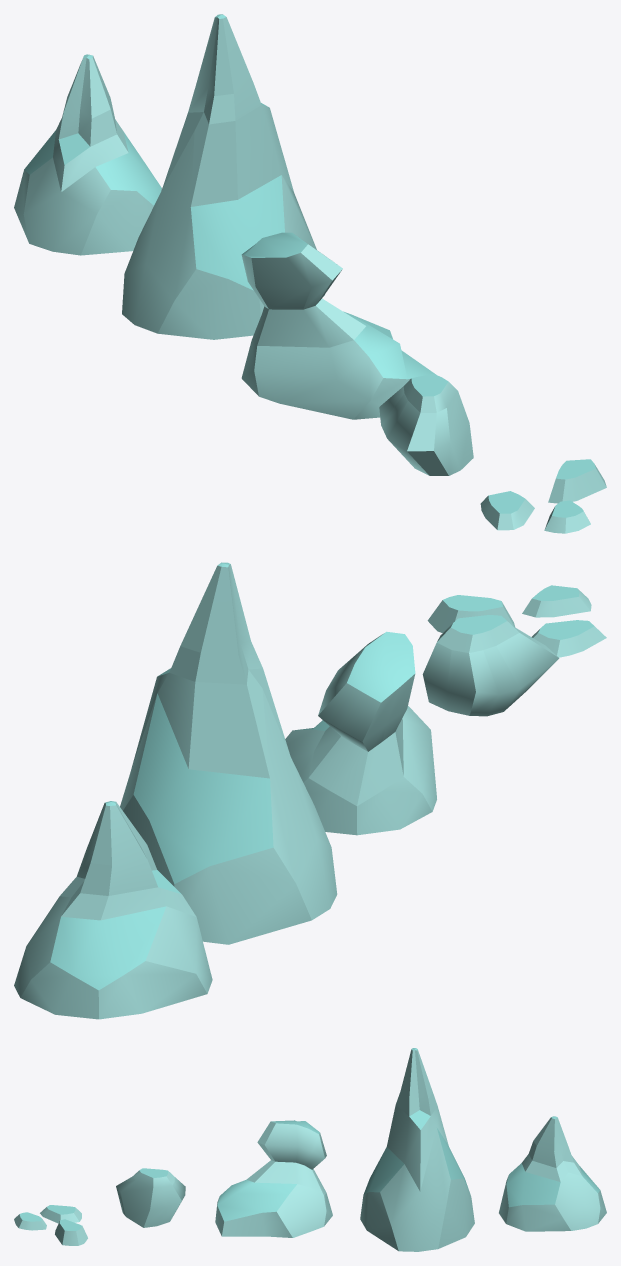
File: IceRocks.fbx
3 views of the same model, one above another, from view 1: azimuth 30°, elevation 25°; view 2: azimuth 150°, elevation 25°; view 3: azimuth 270°, elevation 25° (orthographic). The views are drawn at different scales.
Parts seen in each view (by area): view 1: pasted__pPlatonic1, pPlatonic2, pPlatonic1, pasted__pPlatonic2, pasted__pasted__pPlatonic2; view 2: pasted__pPlatonic1, pPlatonic1, pPlatonic2, pasted__pPlatonic2, pasted__pasted__pPlatonic2; view 3: pasted__pPlatonic1, pPlatonic2, pPlatonic1, pasted__pPlatonic2, pasted__pasted__pPlatonic2.
Boxes of the visible parts, left/top/right/bottom form: pasted__pPlatonic1: left=122, top=14, right=324, bottom=339; pPlatonic2: left=241, top=232, right=436, bottom=419; pPlatonic1: left=14, top=54, right=161, bottom=255; pasted__pPlatonic2: left=379, top=373, right=473, bottom=475; pasted__pasted__pPlatonic2: left=480, top=459, right=606, bottom=533; pasted__pPlatonic1: left=120, top=562, right=337, bottom=944; pPlatonic1: left=14, top=801, right=212, bottom=1019; pPlatonic2: left=285, top=631, right=436, bottom=835; pasted__pPlatonic2: left=422, top=615, right=559, bottom=716; pasted__pasted__pPlatonic2: left=427, top=585, right=606, bottom=657; pasted__pPlatonic1: left=360, top=1048, right=474, bottom=1251; pPlatonic2: left=215, top=1120, right=332, bottom=1237; pPlatonic1: left=499, top=1116, right=606, bottom=1231; pasted__pPlatonic2: left=116, top=1168, right=185, bottom=1227; pasted__pasted__pPlatonic2: left=14, top=1205, right=87, bottom=1245.
Size of the model in its own units: 3.01 by 4.44 by 13.55.
